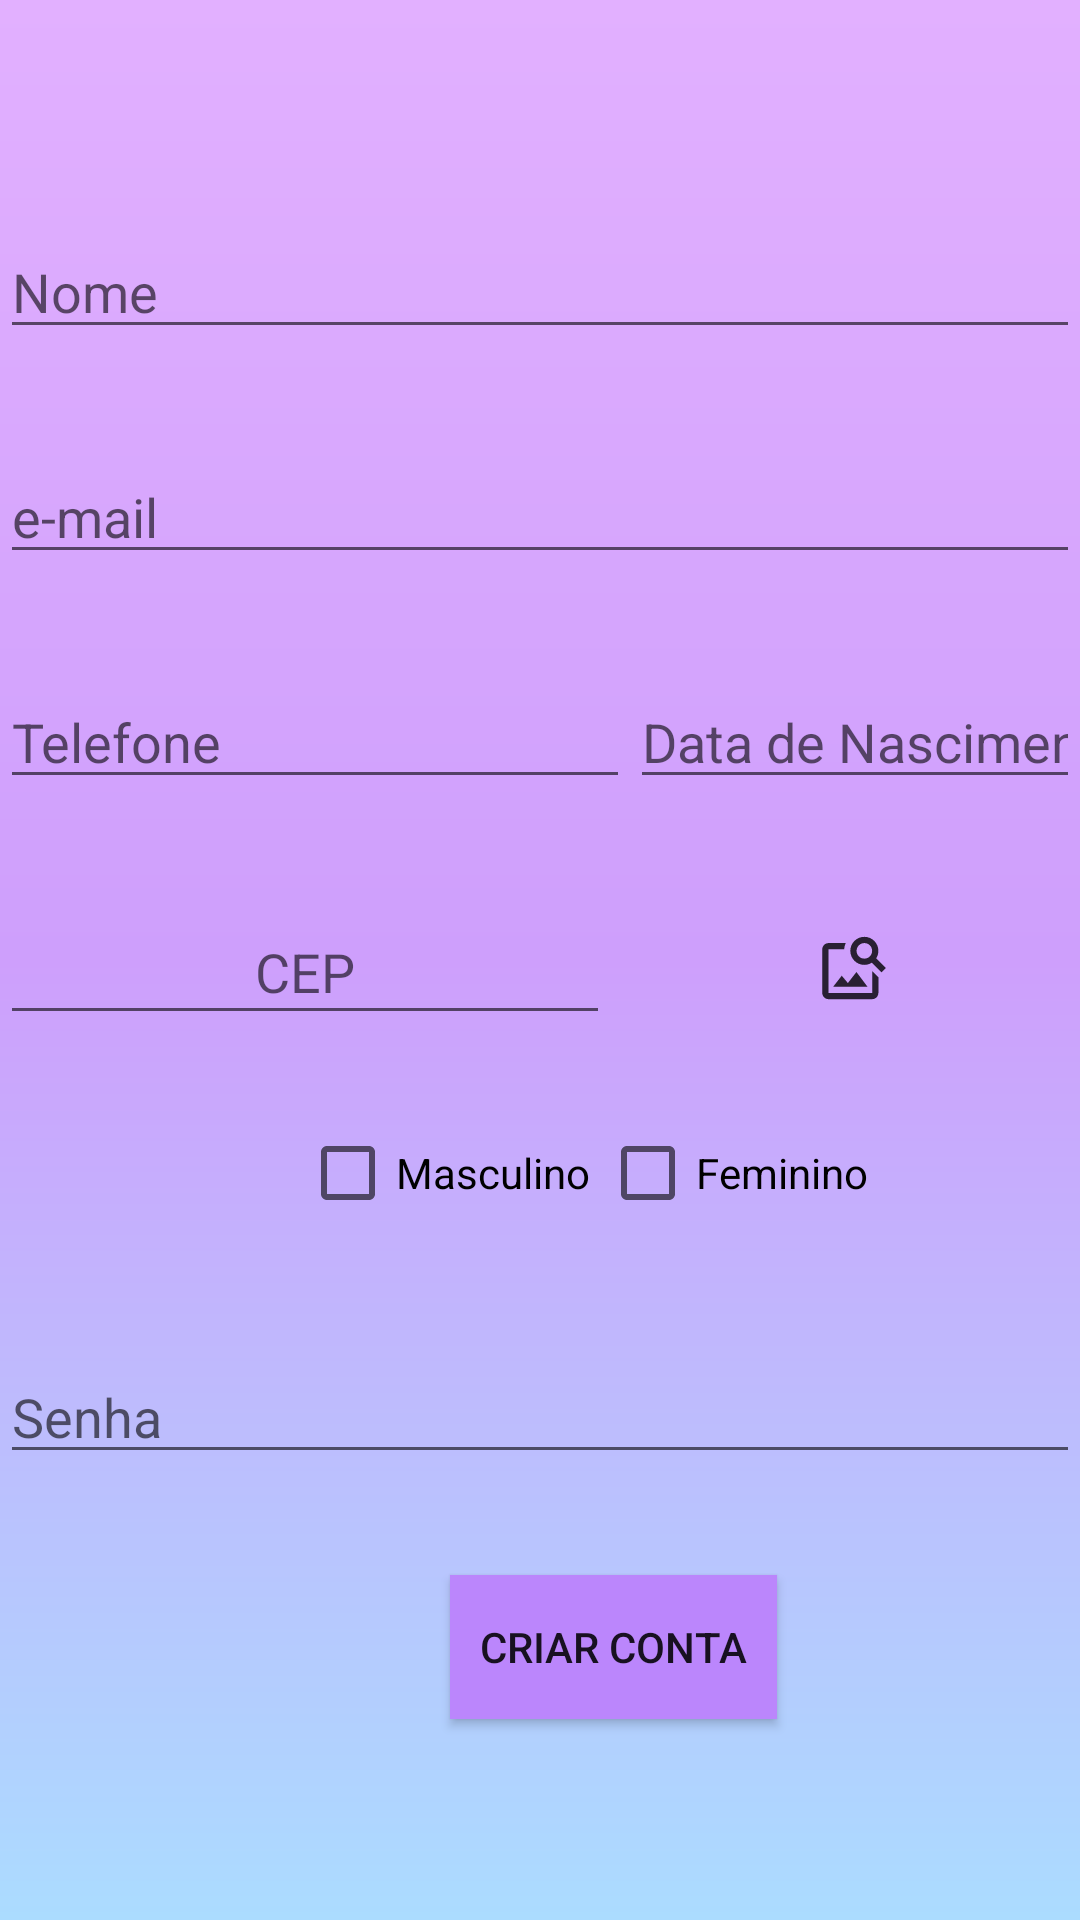

Where to tap for icons on this 1080px×1920px app screen, as (x=x, y=y):
imagem: (x=854, y=968)
